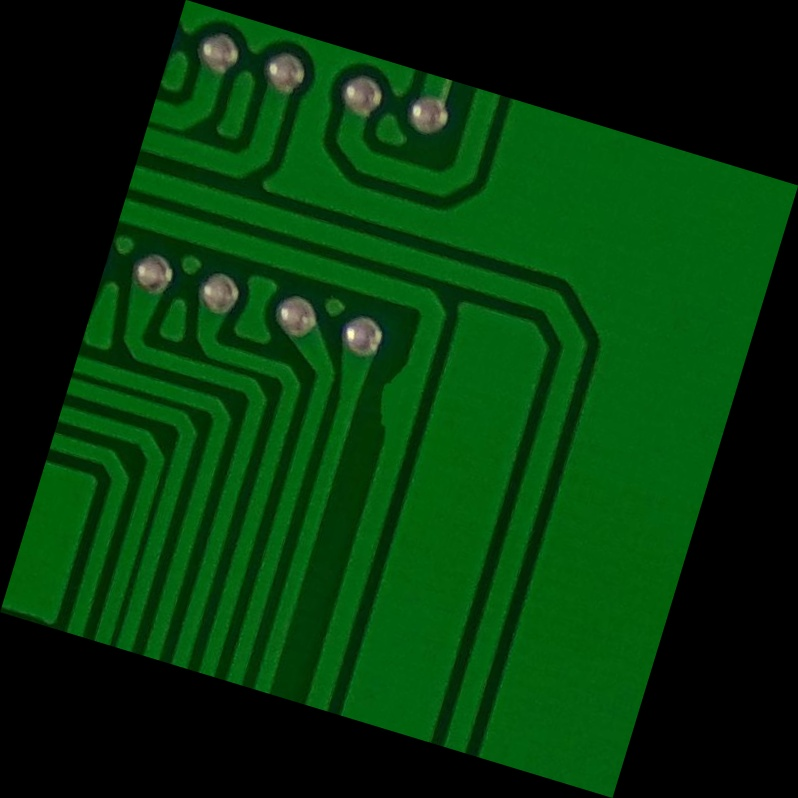spur: (355, 343, 444, 455)
